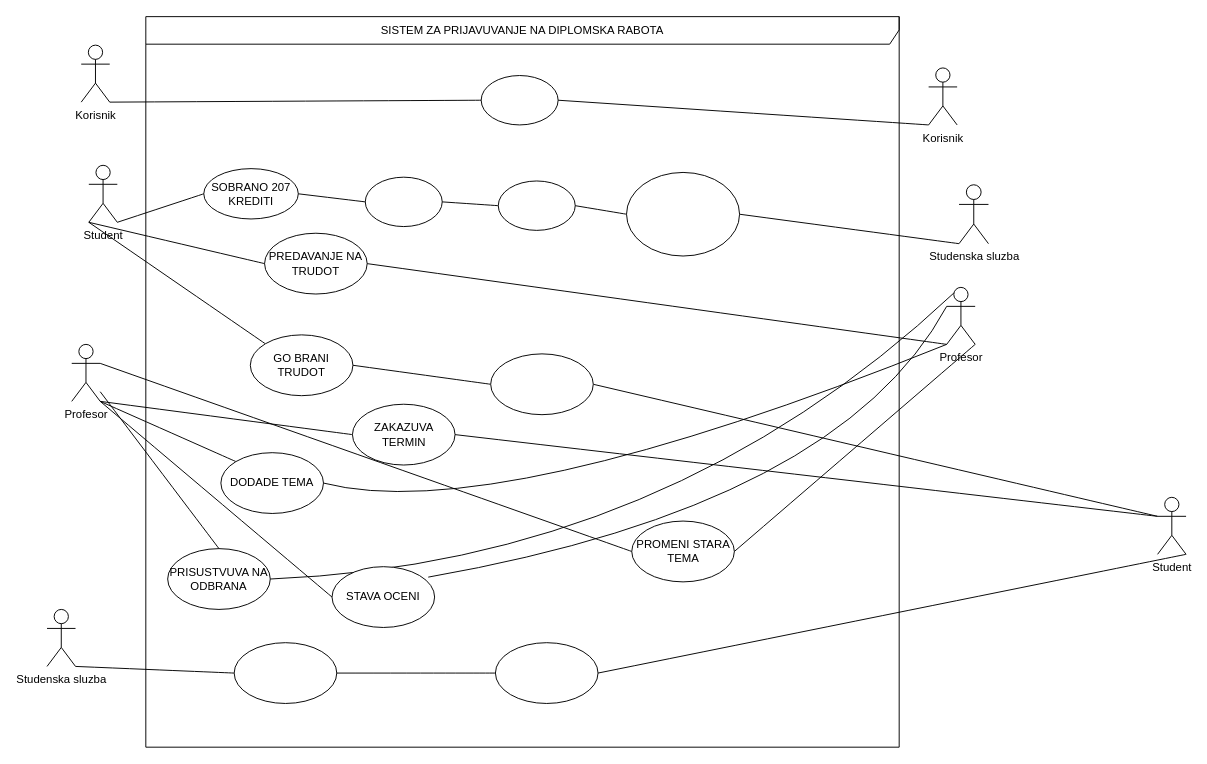
The diagram is 1207 pixels wide and 764 high, and some of its shapes have lost their labels. Here are the shapes that lost their labels. From the top down, the centre of each, then its label:
the point at 519,100: NAJAVA
the point at 403,201: IZBOR NA PROFESORI
the point at 536,205: IZBOR NA TEMA
the point at 683,213: POPOLNUVANJE OBRAZEC ZA PRIJAVA
the point at 541,384: CEKA OCENA
the point at 285,672: PROVERKA NA DOKUMENTI
the point at 546,672: PRATI IZVESTUVANJE
